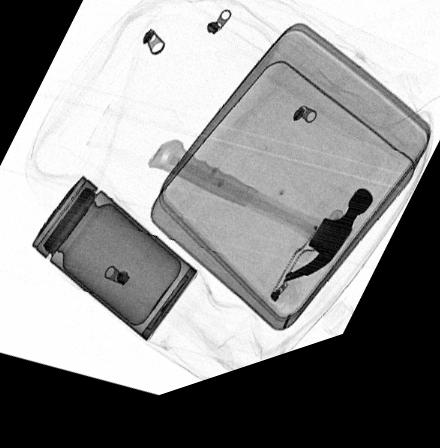Hammer: (147, 150, 374, 301)
